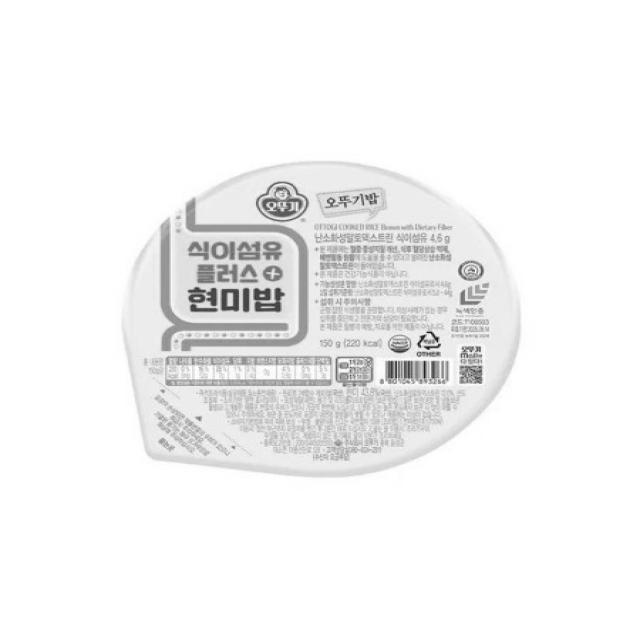Nutrition Label: (165, 356, 337, 387)
